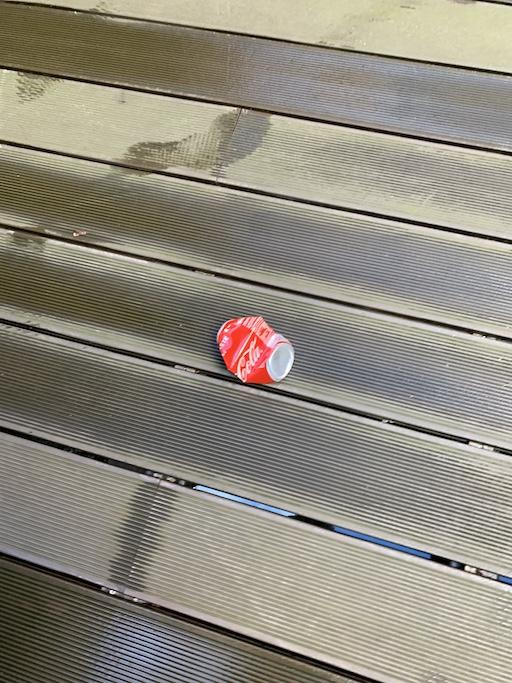Aluminum can: (206, 304, 312, 397)
